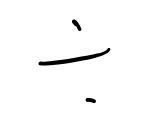div: (33, 17, 111, 106)
